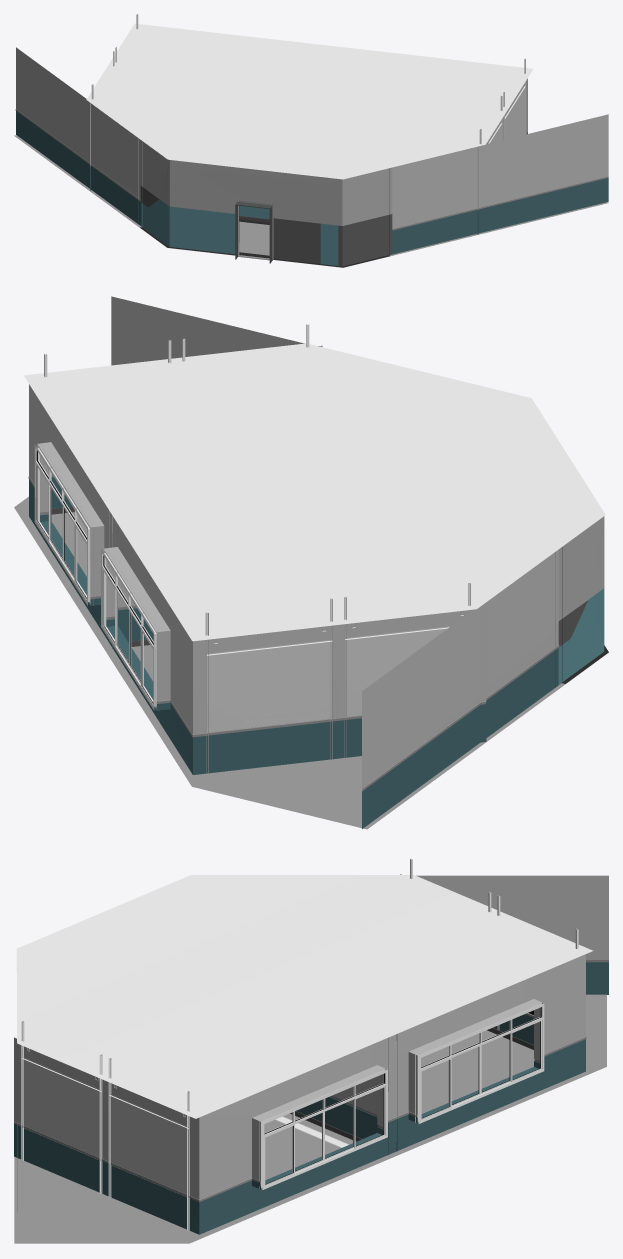
File: SM_H_Building_Tide_MedicalRoom_10_ATLAS.fbx
3 views of the same model, one above another, from view 1: azimuth 30°, elevation 25°; view 2: azimuth 150°, elevation 25°; view 3: azimuth 270°, elevation 25° (orthographic). The views are drawn at different scales.
Visible parts, largest first — view 1: SM_H_Building_Tide_MedicalRoom_10_ATLAS; view 2: SM_H_Building_Tide_MedicalRoom_10_ATLAS; view 3: SM_H_Building_Tide_MedicalRoom_10_ATLAS.
Part boxes in pixels (left/top/right/bottom): SM_H_Building_Tide_MedicalRoom_10_ATLAS: left=14, top=14, right=608, bottom=267; SM_H_Building_Tide_MedicalRoom_10_ATLAS: left=14, top=296, right=608, bottom=829; SM_H_Building_Tide_MedicalRoom_10_ATLAS: left=14, top=858, right=608, bottom=1243.
Size of the model in its own units: 1821 by 1821 by 469.
